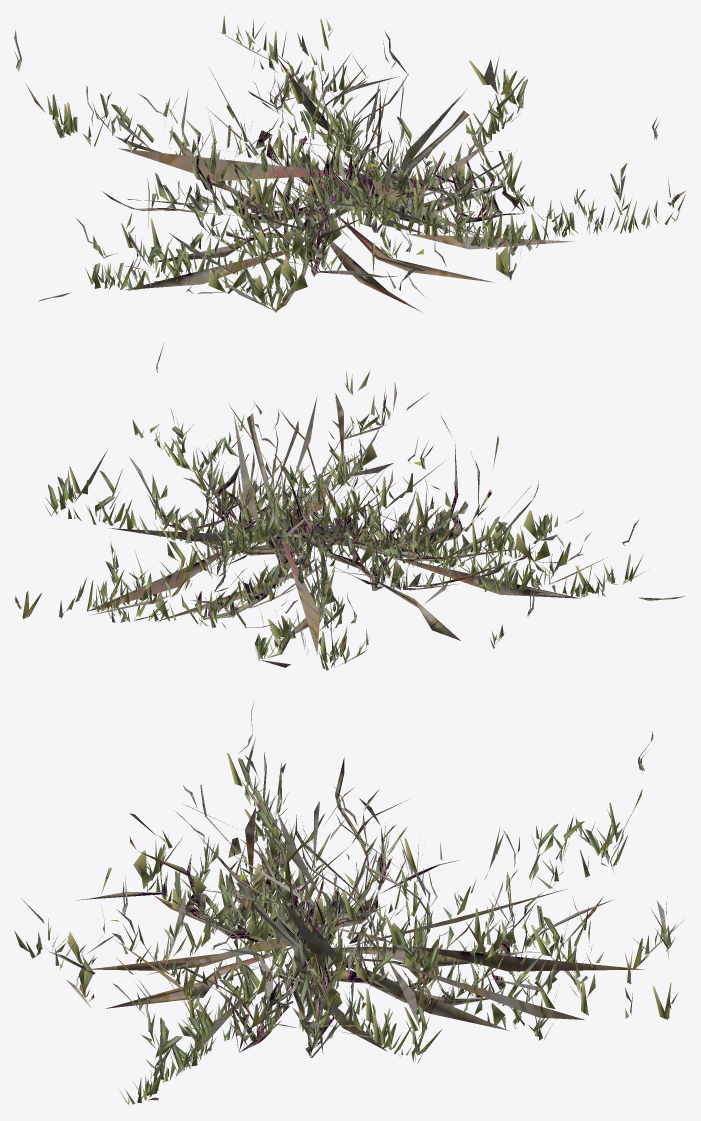
Rendered from leipoldtia_schultzei.glb.
3 renders of one model, top to bottom at view 1: azimuth 30°, elevation 25°; view 2: azimuth 150°, elevation 25°; view 3: azimuth 270°, elevation 25°, orthographic. The views are drawn at different scales.
Parts seen in each view (by area): view 1: leipoldtia_schultzei_Large_LOD0, leipoldtia_schultzei_Small_LOD0, leipoldtia_schultzei_Medium_LOD0; view 2: leipoldtia_schultzei_Large_LOD0, leipoldtia_schultzei_Small_LOD0, leipoldtia_schultzei_Medium_LOD0; view 3: leipoldtia_schultzei_Large_LOD0, leipoldtia_schultzei_Small_LOD0, leipoldtia_schultzei_Medium_LOD0.
Part boxes in pixels (<box>): leipoldtia_schultzei_Large_LOD0: <box>14,15,685,301</box>; leipoldtia_schultzei_Small_LOD0: <box>102,70,524,277</box>; leipoldtia_schultzei_Medium_LOD0: <box>86,85,517,312</box>; leipoldtia_schultzei_Large_LOD0: <box>14,342,685,670</box>; leipoldtia_schultzei_Small_LOD0: <box>129,413,533,628</box>; leipoldtia_schultzei_Medium_LOD0: <box>106,438,592,667</box>; leipoldtia_schultzei_Large_LOD0: <box>14,703,684,1105</box>; leipoldtia_schultzei_Small_LOD0: <box>77,757,614,1057</box>; leipoldtia_schultzei_Medium_LOD0: <box>66,785,623,1053</box>.
Bounding box in the file's own units: 0.8792 × 0.2638 × 0.7463.
1 material, 1 textured.
